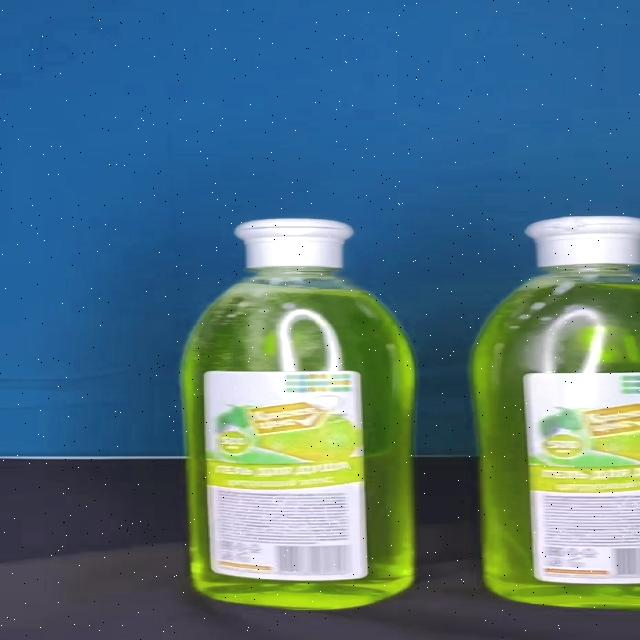Bottle: (180, 218, 419, 609), (473, 216, 640, 609)
Cap: (234, 218, 354, 270), (523, 216, 640, 267)
